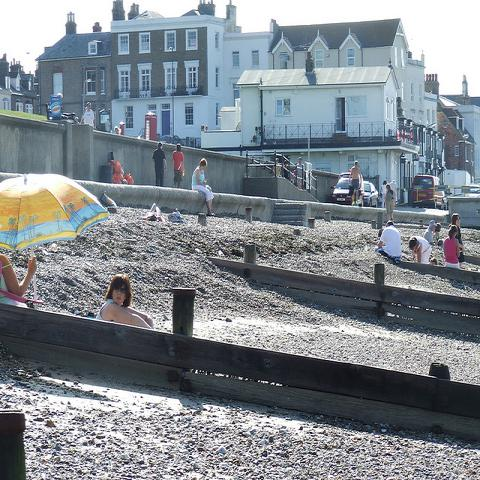car: (410, 175, 446, 209), (332, 176, 355, 205), (363, 182, 380, 208)
